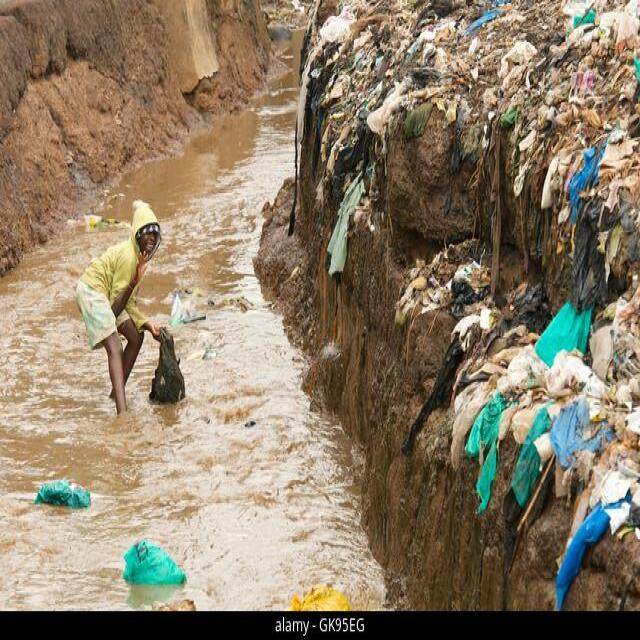plastic: (301, 56, 626, 224), (150, 328, 189, 406), (124, 542, 185, 581), (34, 480, 91, 506)
